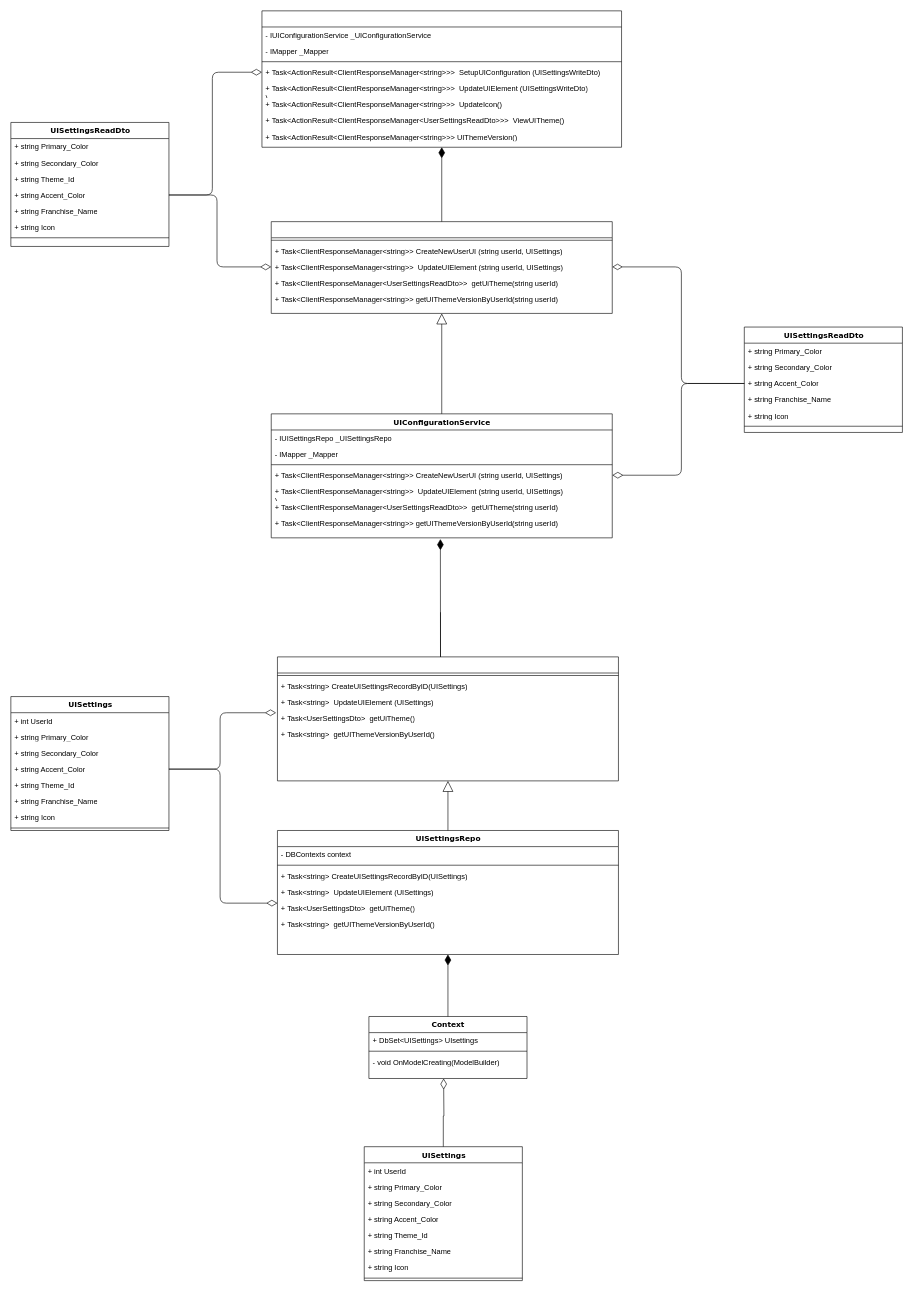
This 913x1291 diagram has some shape labels left out. The box of each missing label's shape, as (x1, y1, x2, y2) in pixels:
IUIConfigurationService: (271, 221, 612, 313)
IUISettingsRepo: (277, 656, 618, 781)
TER_UIConfiguration: (261, 10, 622, 147)
